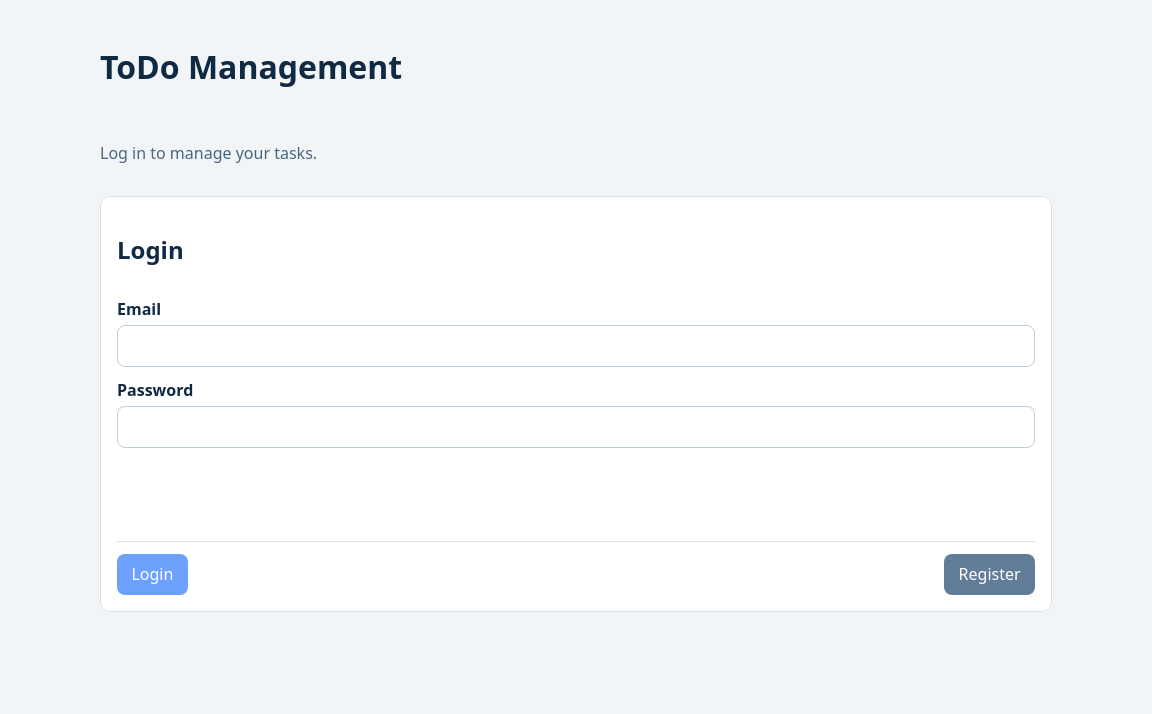
Test: App auth screen › navigates to register screen when register button is clicked
Click the button "Register" at [990, 574], box [944, 554, 1035, 595]
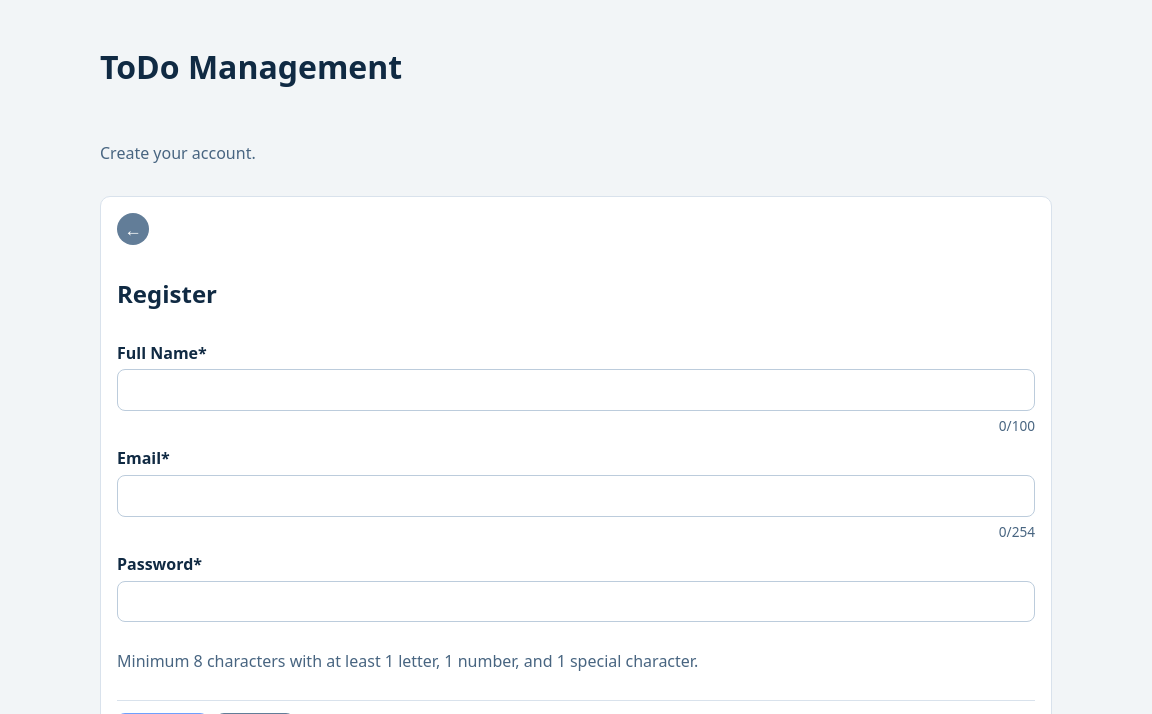
Expected: the heading "Register" is shown, [117, 277, 217, 310]
